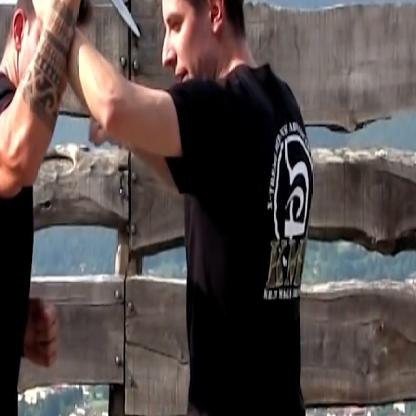knife: (47, 0, 145, 50)
